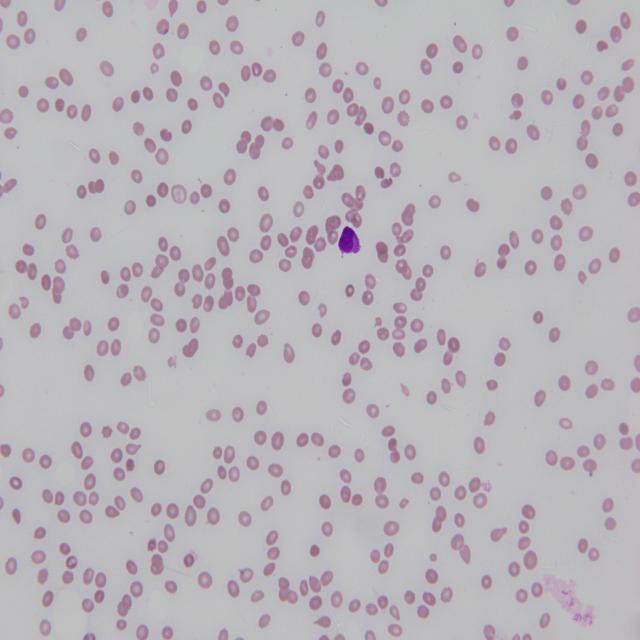cell: (339, 226, 360, 253)
